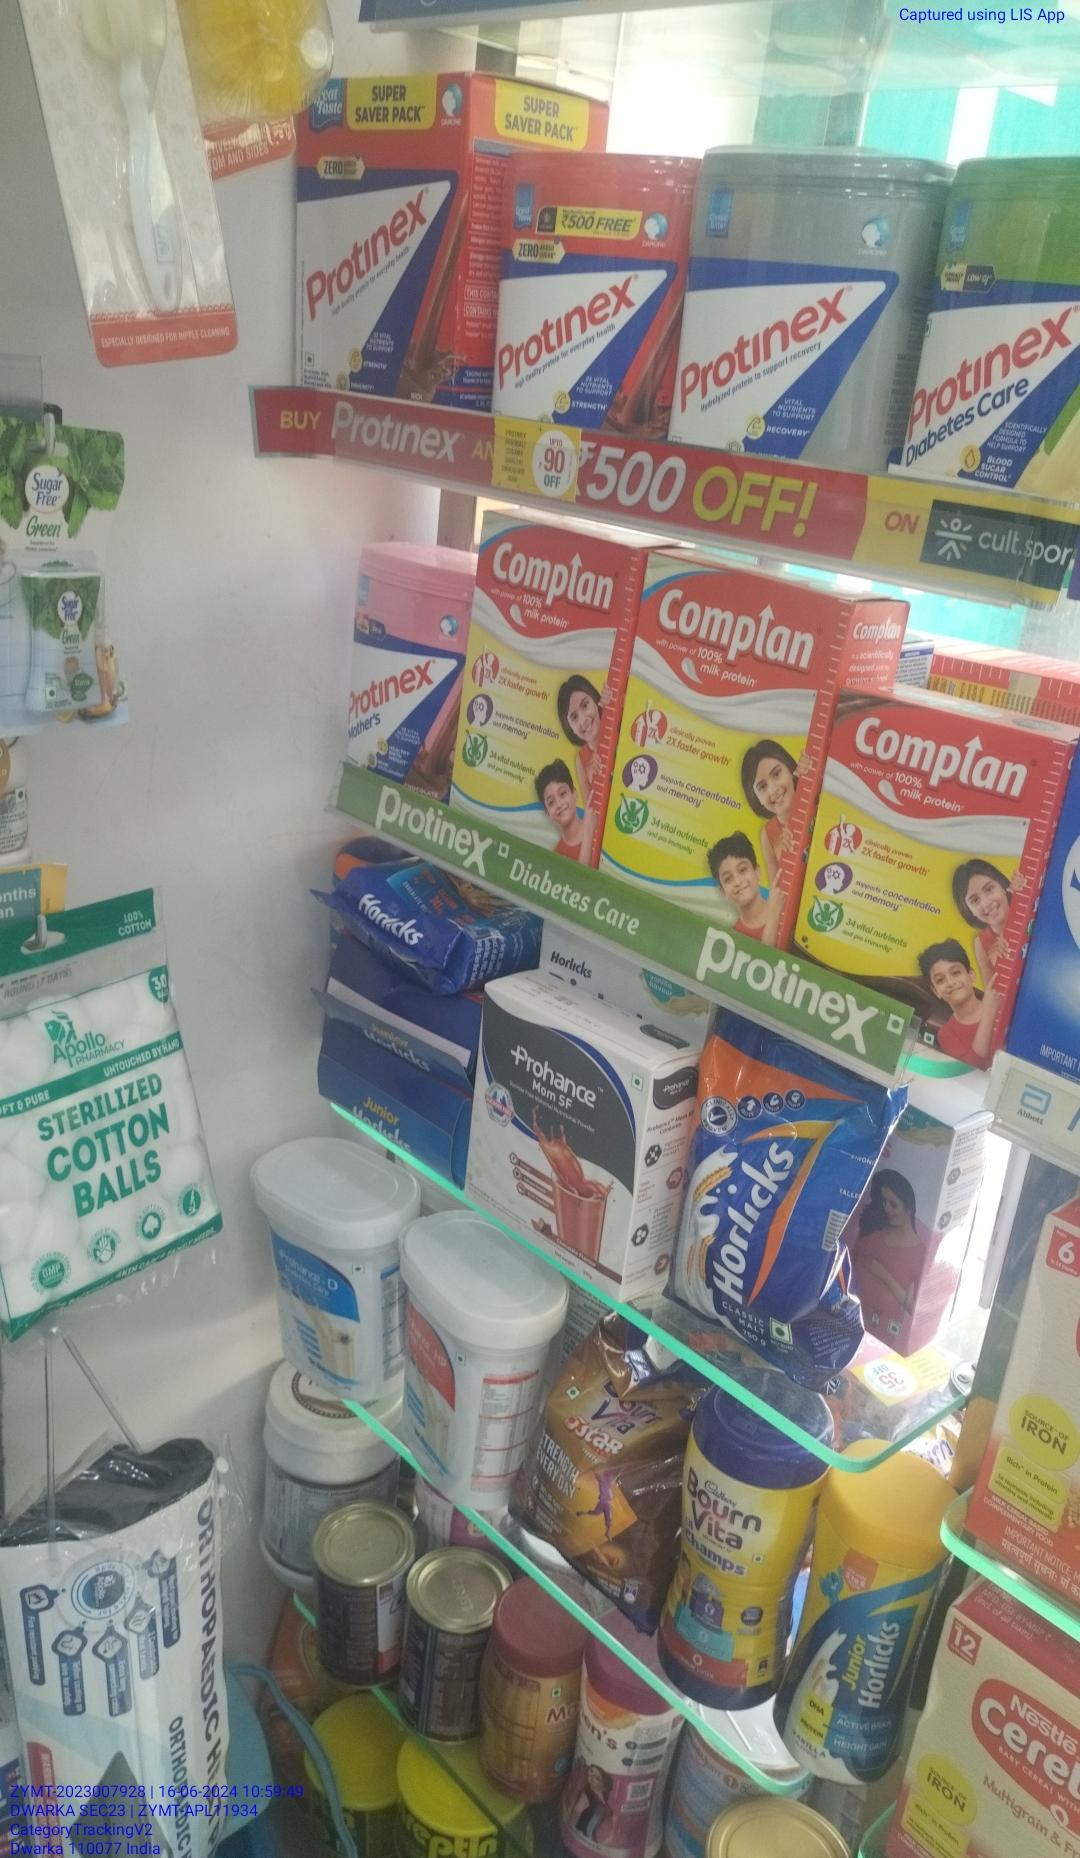BOURN_VITA_CHAMPS_500_G_JAR: (665, 1396, 764, 1710)
